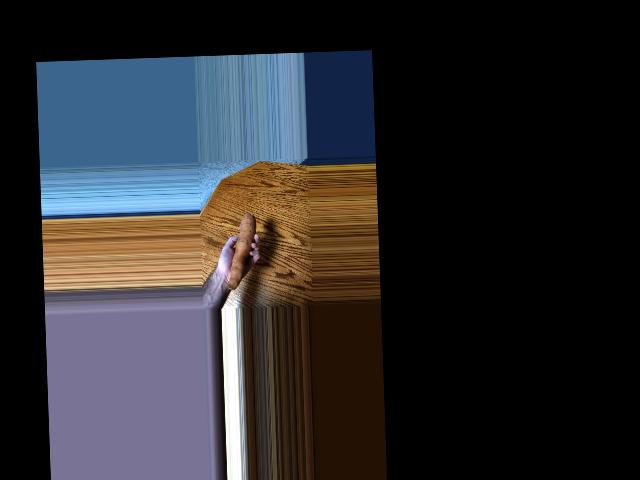sweet_potato: (228, 216, 260, 286)
